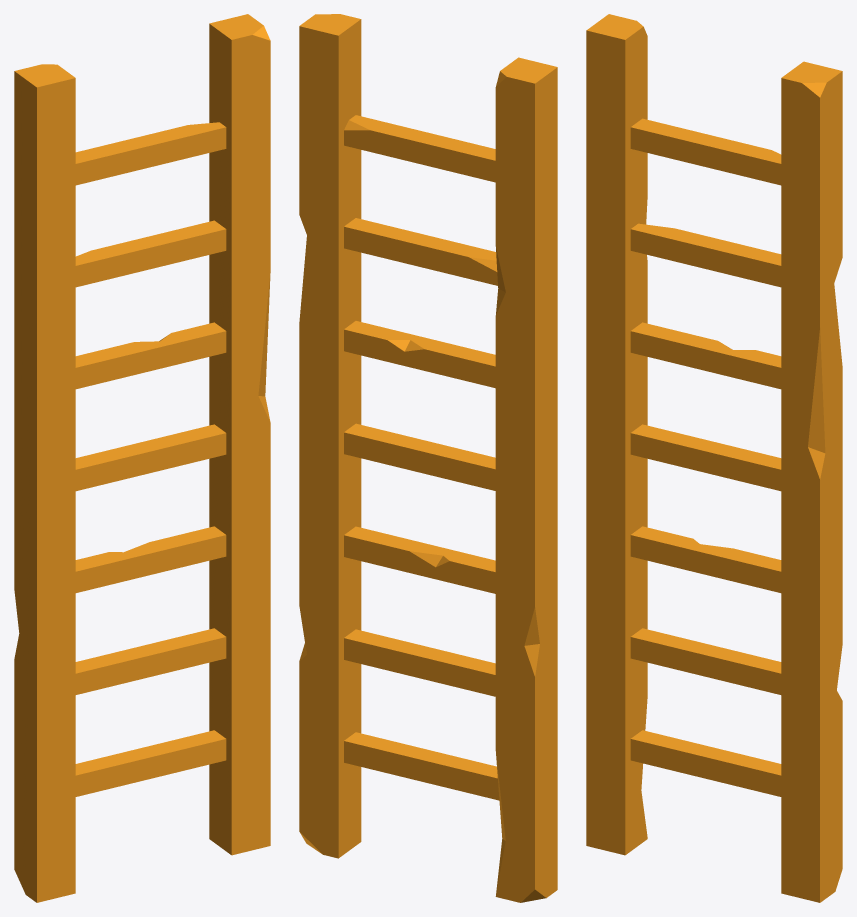
File: SM_Prop_Ladder_1x2_01P.fbx
The picture shows the model from 3 angles, left to right: view 1: azimuth 30°, elevation 25°; view 2: azimuth 150°, elevation 25°; view 3: azimuth 330°, elevation 25°; orthographic projection.
Parts seen in each view (by area): view 1: SM_Prop_Ladder_1x2_01P; view 2: SM_Prop_Ladder_1x2_01P; view 3: SM_Prop_Ladder_1x2_01P.
Part boxes in pixels (x1,y1,x2,y2): SM_Prop_Ladder_1x2_01P: [14, 14, 270, 902]; SM_Prop_Ladder_1x2_01P: [299, 14, 557, 902]; SM_Prop_Ladder_1x2_01P: [586, 14, 842, 902].
Size of the model in its own units: 60 by 200 by 10.
